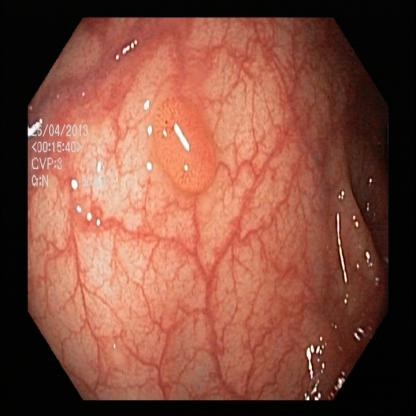Labels: (29, 114, 93, 193)
Polyps: (128, 101, 230, 204)
